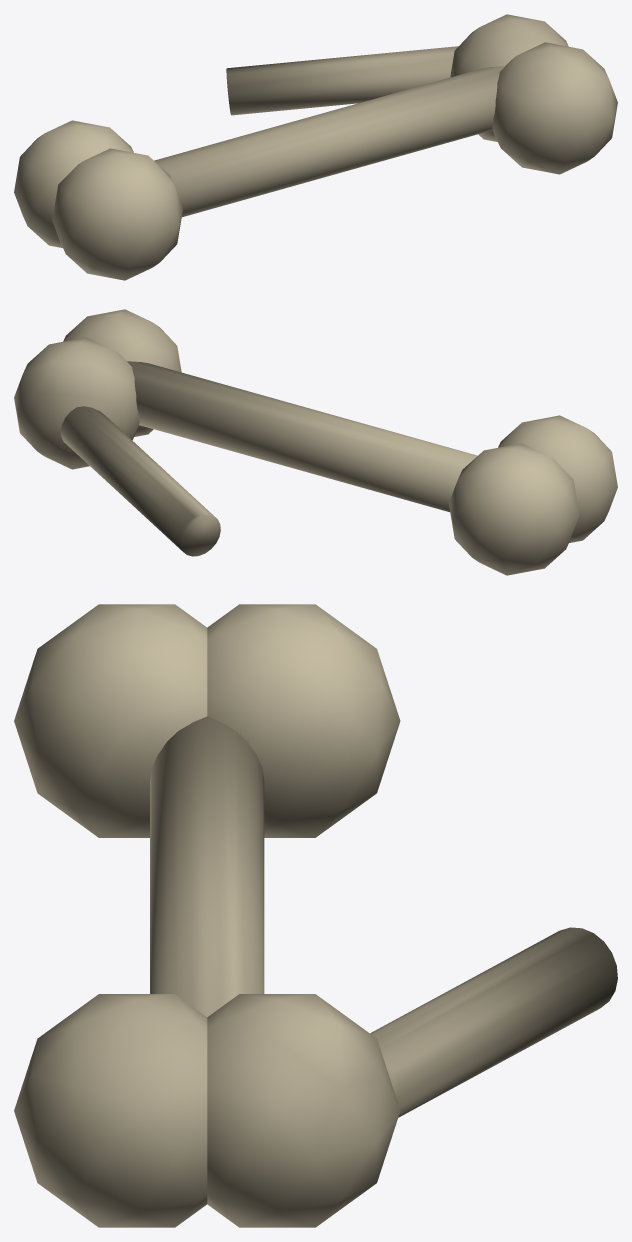
File: animal-bone.obj
The picture shows the model from 3 angles, top to bottom: view 1: azimuth 30°, elevation 25°; view 2: azimuth 150°, elevation 25°; view 3: azimuth 270°, elevation 25°; orthographic projection. The views are drawn at different scales.
Visible parts, largest first — view 1: animal-bone; view 2: animal-bone; view 3: animal-bone.
Part boxes in pixels (bbox=[...]): animal-bone: bbox=[14, 14, 617, 280]; animal-bone: bbox=[14, 309, 617, 575]; animal-bone: bbox=[14, 604, 617, 1227].
Bounding box in the file's own units: 0.5265 × 0.112 × 0.275.
